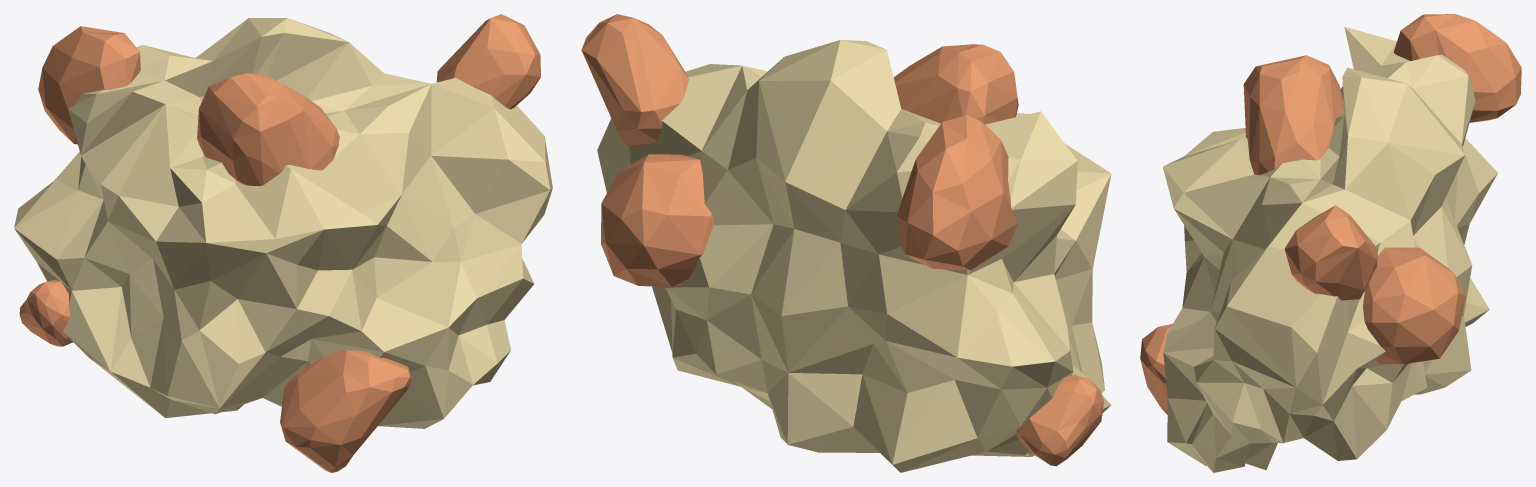
The model's file is StoneOre (63).fbx.
3 views of the same model, side by side, from view 1: azimuth 30°, elevation 25°; view 2: azimuth 150°, elevation 25°; view 3: azimuth 270°, elevation 25° (orthographic). The views are drawn at different scales.
Visible parts, largest first — view 1: Asteroid350; view 2: Asteroid350; view 3: Asteroid350.
Boxes of the visible parts, left/top/right/bottom form: Asteroid350: left=14, top=14, right=552, bottom=472; Asteroid350: left=581, top=14, right=1111, bottom=472; Asteroid350: left=1140, top=14, right=1521, bottom=472.
Bounding box in the file's own units: 495 × 386 × 354.
